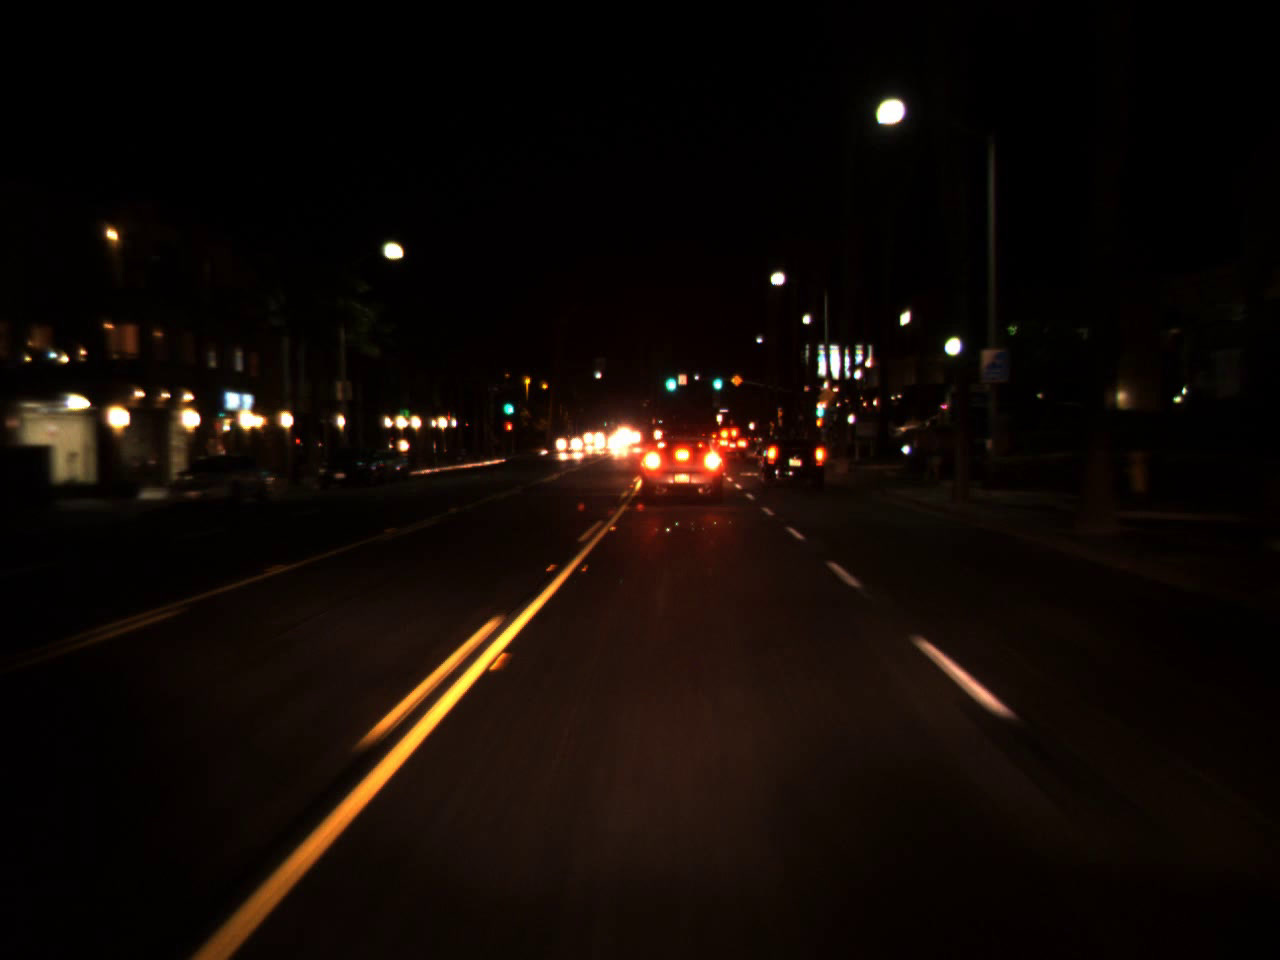go: (661, 362, 679, 395), (499, 389, 515, 419), (710, 366, 724, 393)
